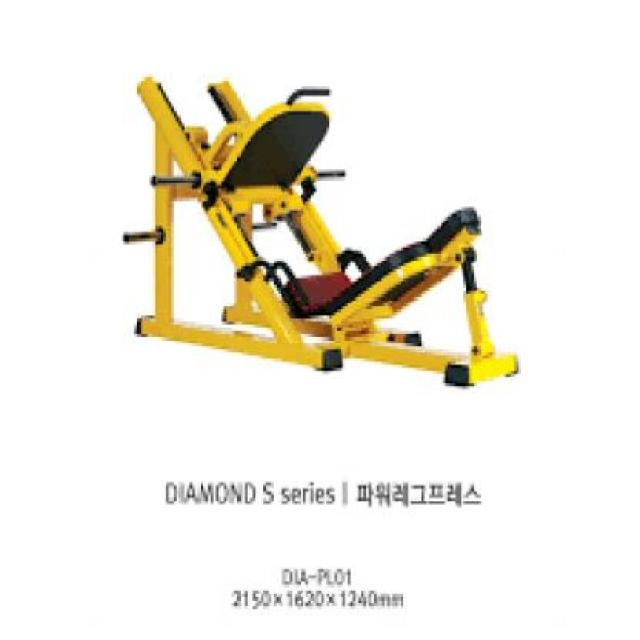leg press: (76, 57, 566, 414)
